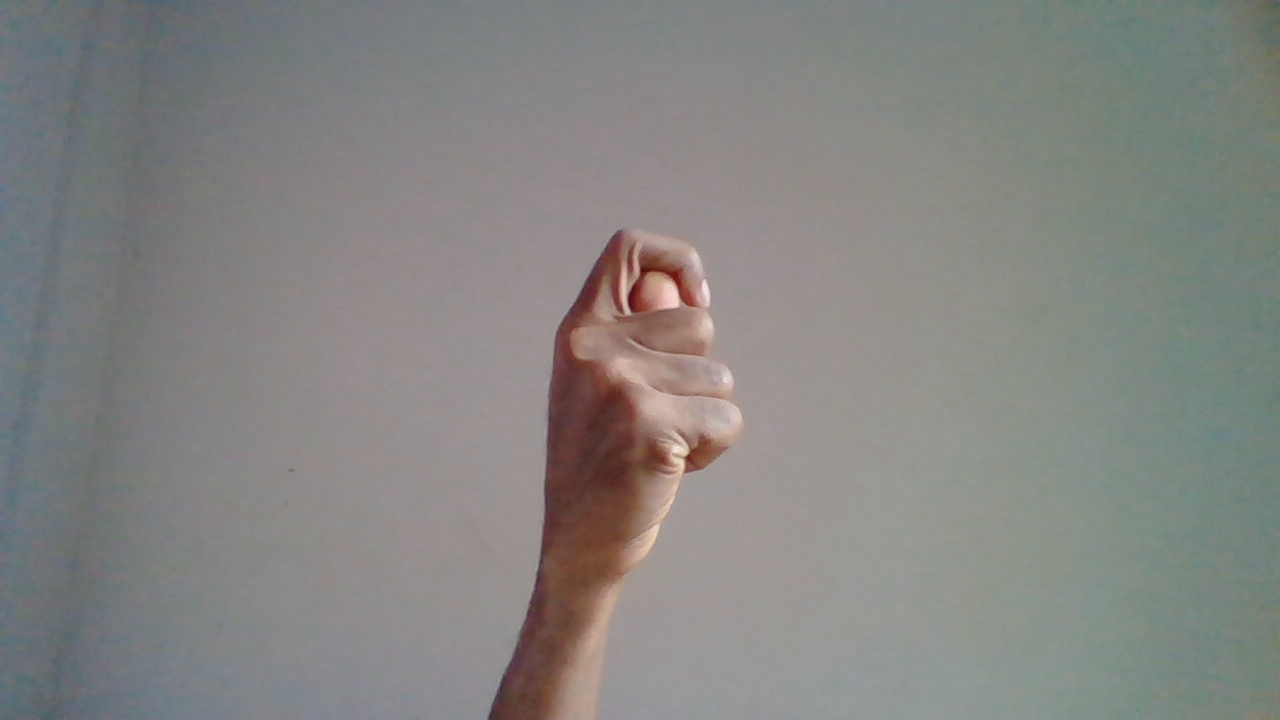che: (537, 222, 745, 701)
